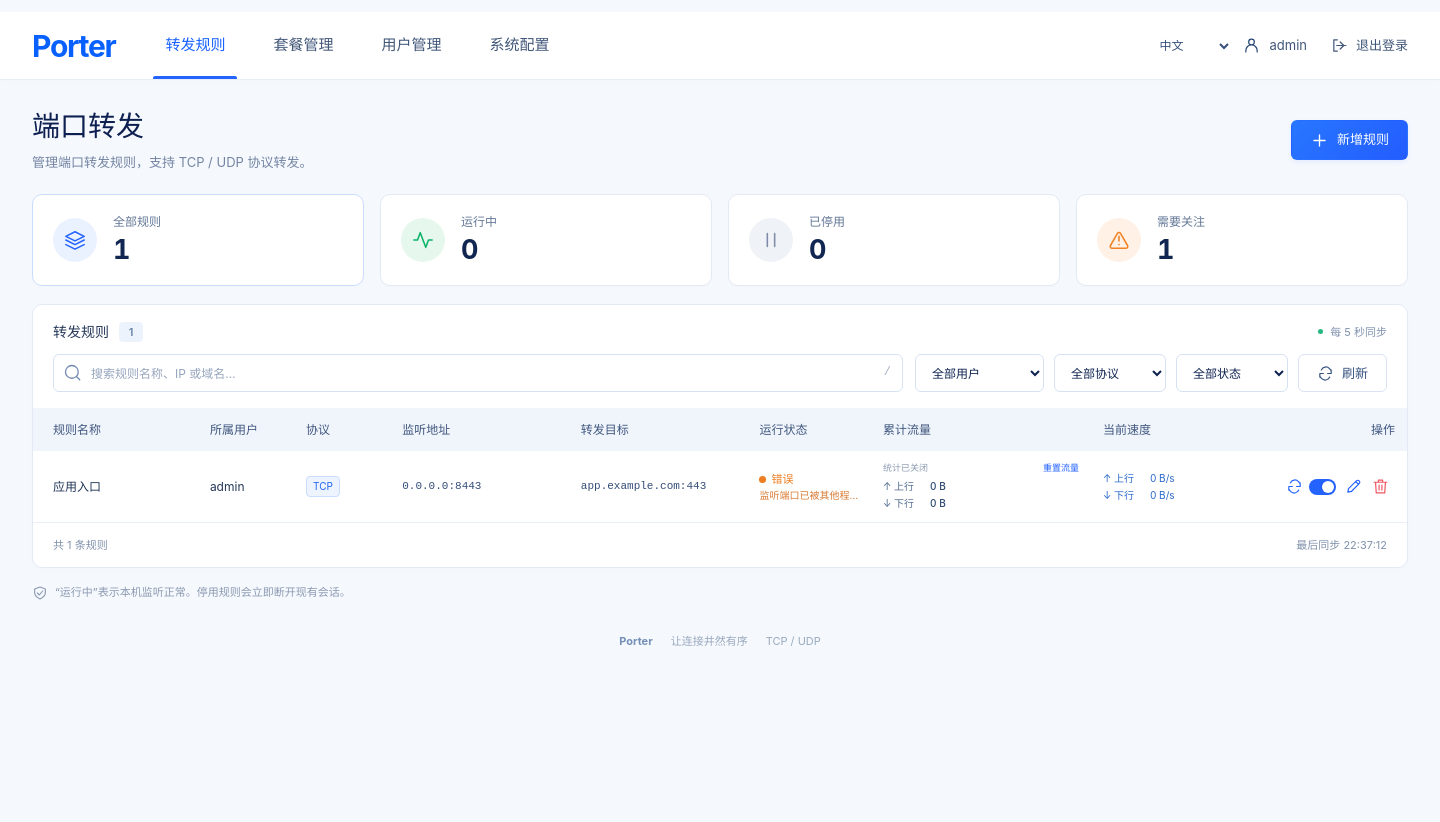
Test: 转发规则管理 › 错误规则展示原因，重试后刷新实际运行状态
Expected: the element with class "desktop-table" shows "监听端口已被其他程序占用", top-left (759, 489), bottom-right (879, 501)
Click the button named "重试 应用入口".
click(1294, 486)  # box top-left (1282, 472), bottom-right (1307, 500)
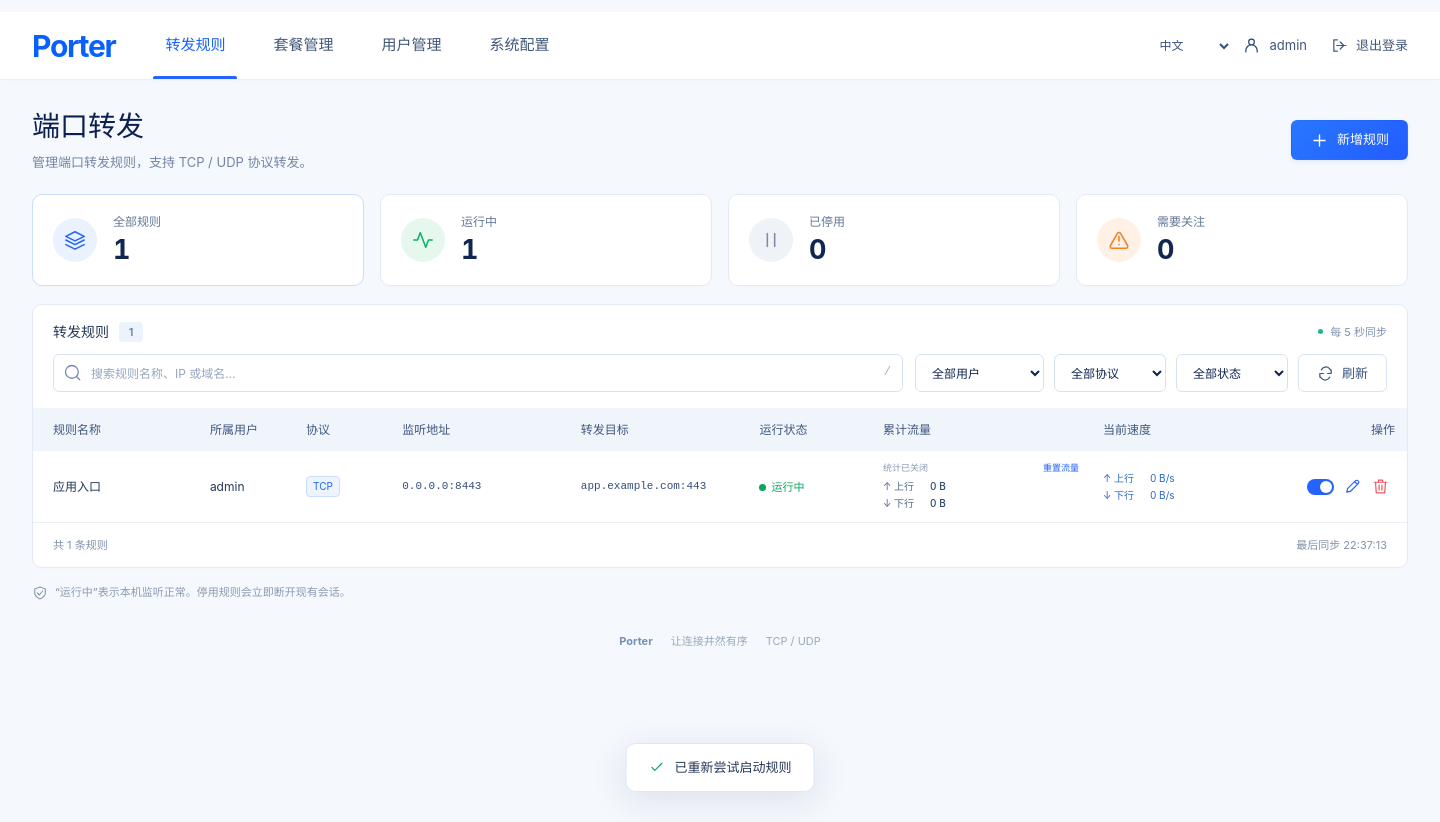
Result: the element with class "desktop-table" shows "运行中" at top-left (771, 480), bottom-right (804, 494)
